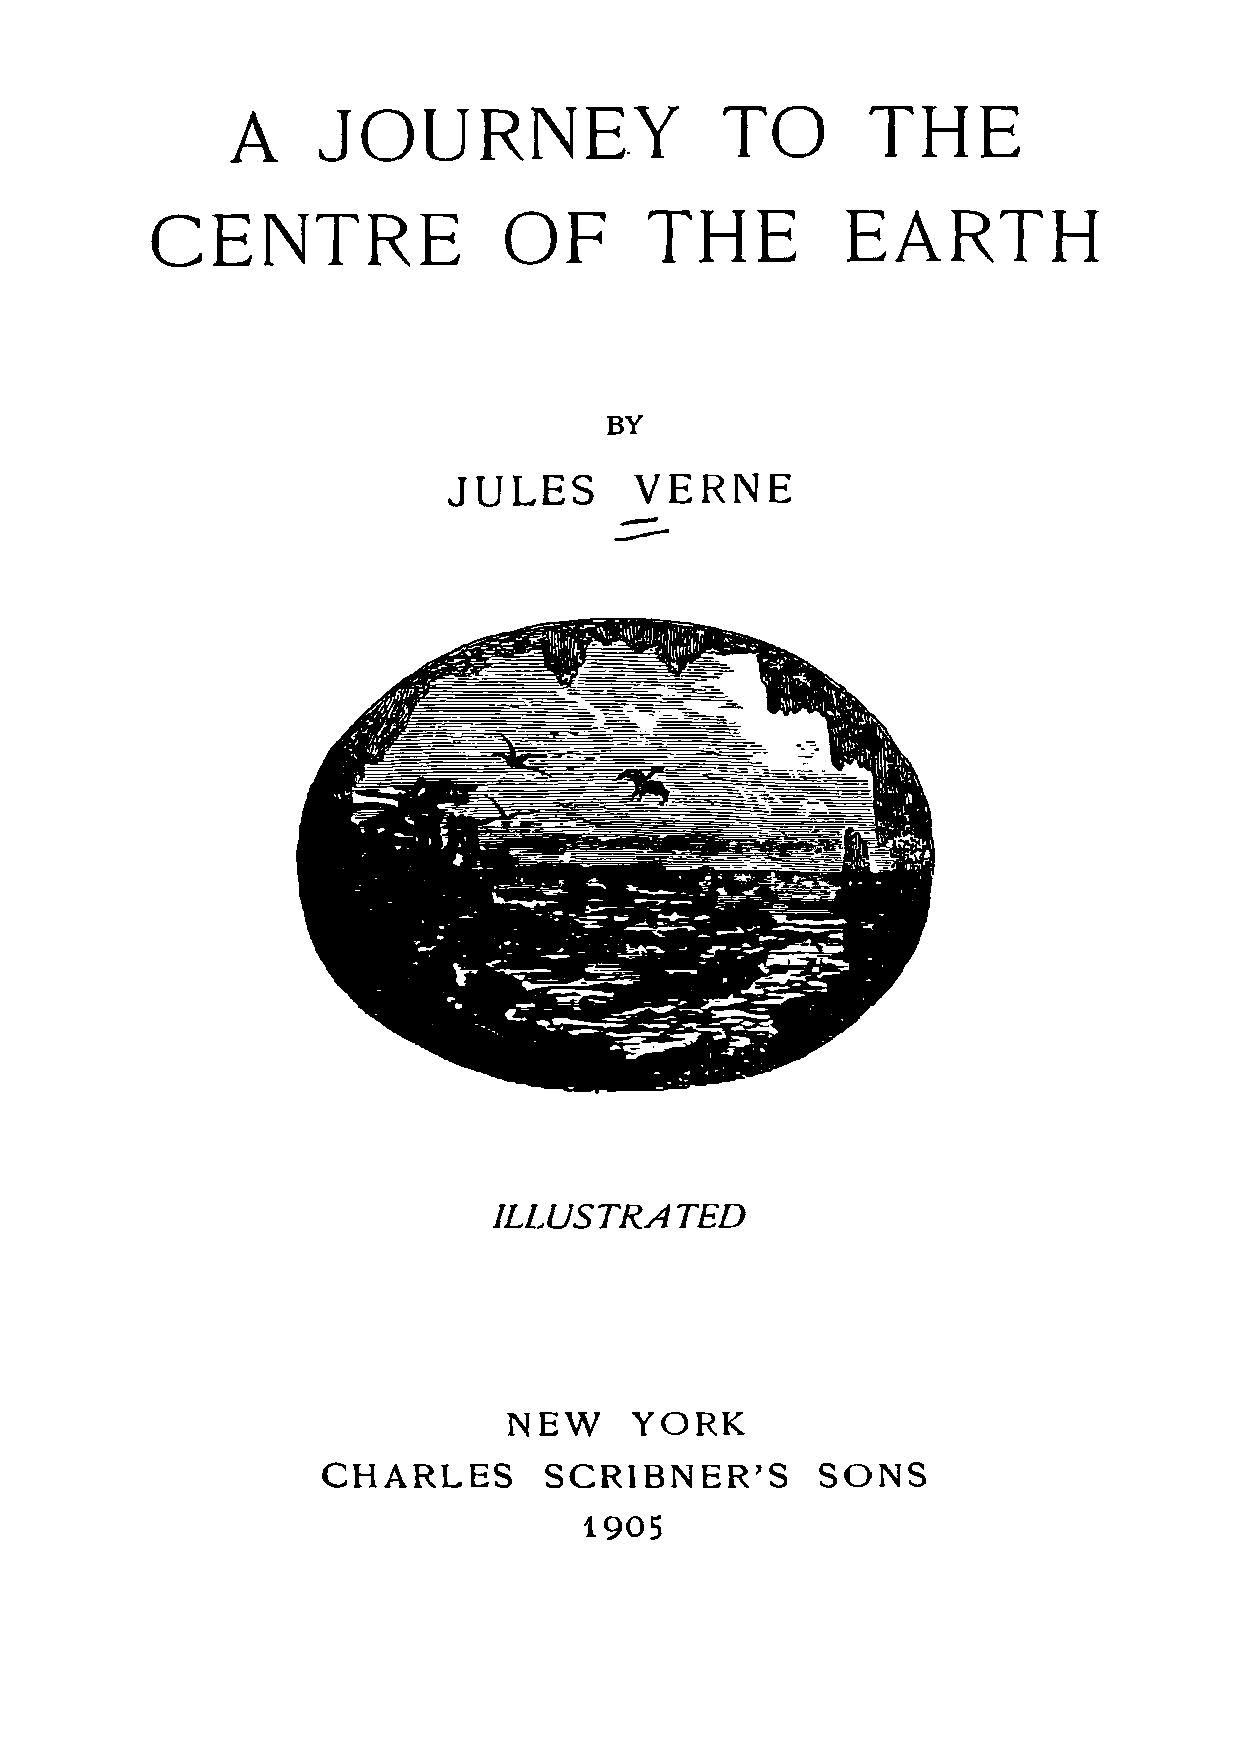author: (443, 411, 790, 515)
title: (148, 102, 1100, 271)
